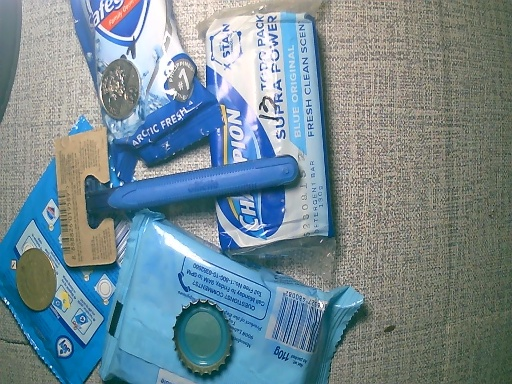metal: (173, 299, 234, 381), (96, 60, 143, 118), (15, 251, 55, 309)
plastic: (119, 215, 366, 384), (200, 2, 353, 258), (1, 113, 100, 384), (70, 1, 219, 154)
trash: (98, 152, 302, 217), (52, 134, 120, 267)
